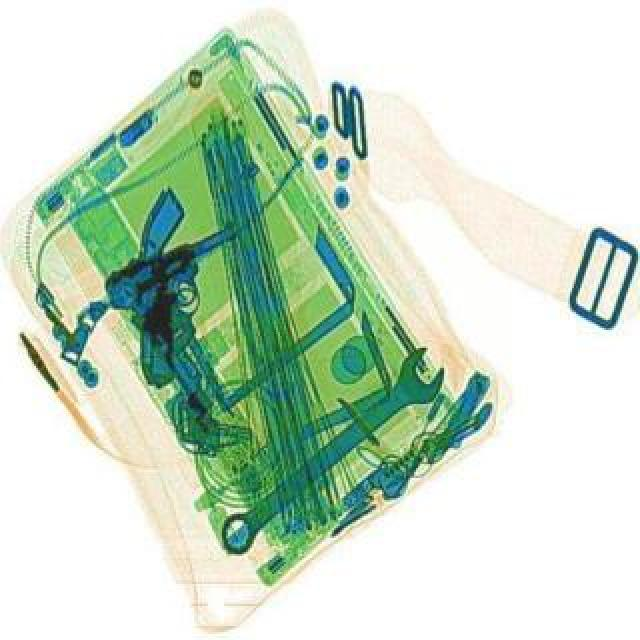gun: (76, 182, 288, 422)
scissors: (202, 340, 458, 562)
